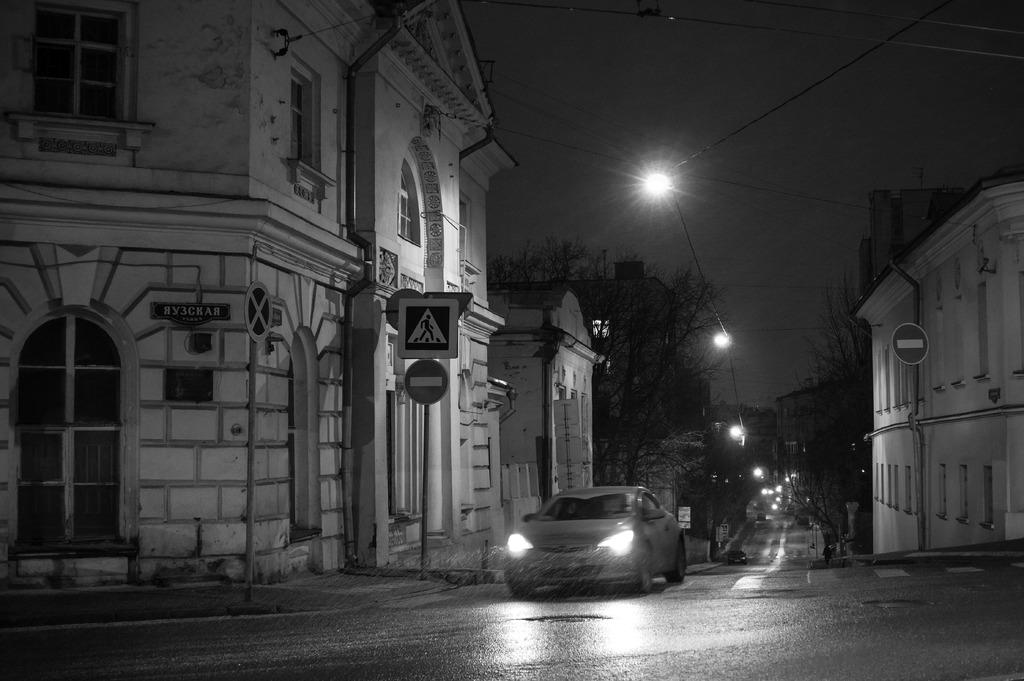Car: (494, 488, 688, 585)
